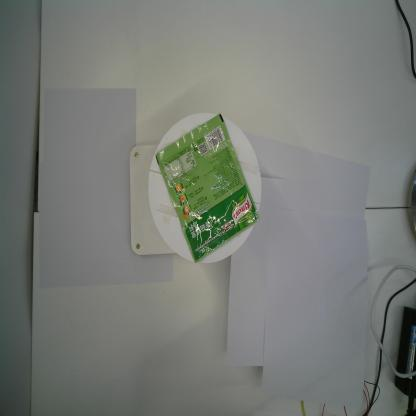Seasoner: (155, 113, 261, 266)
